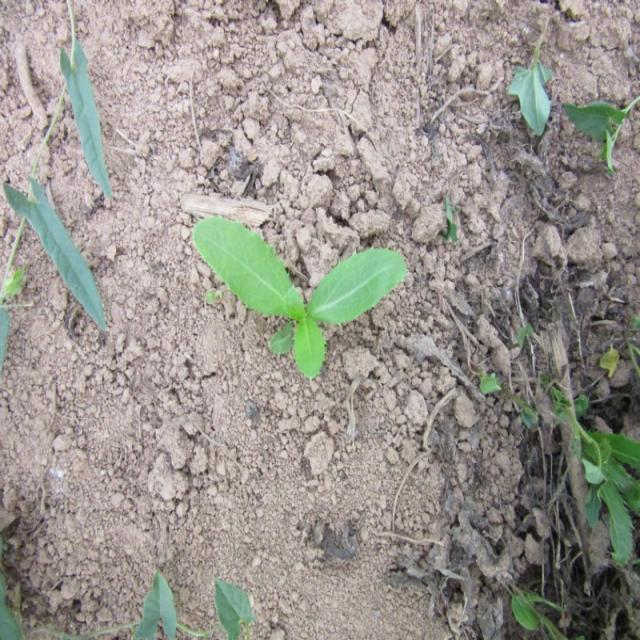cs: (190, 210, 412, 387)
